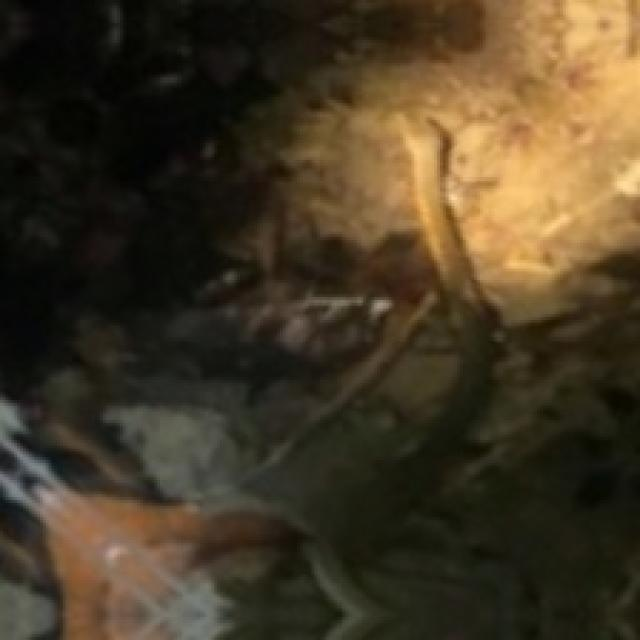king cobra: (302, 115, 501, 639)
